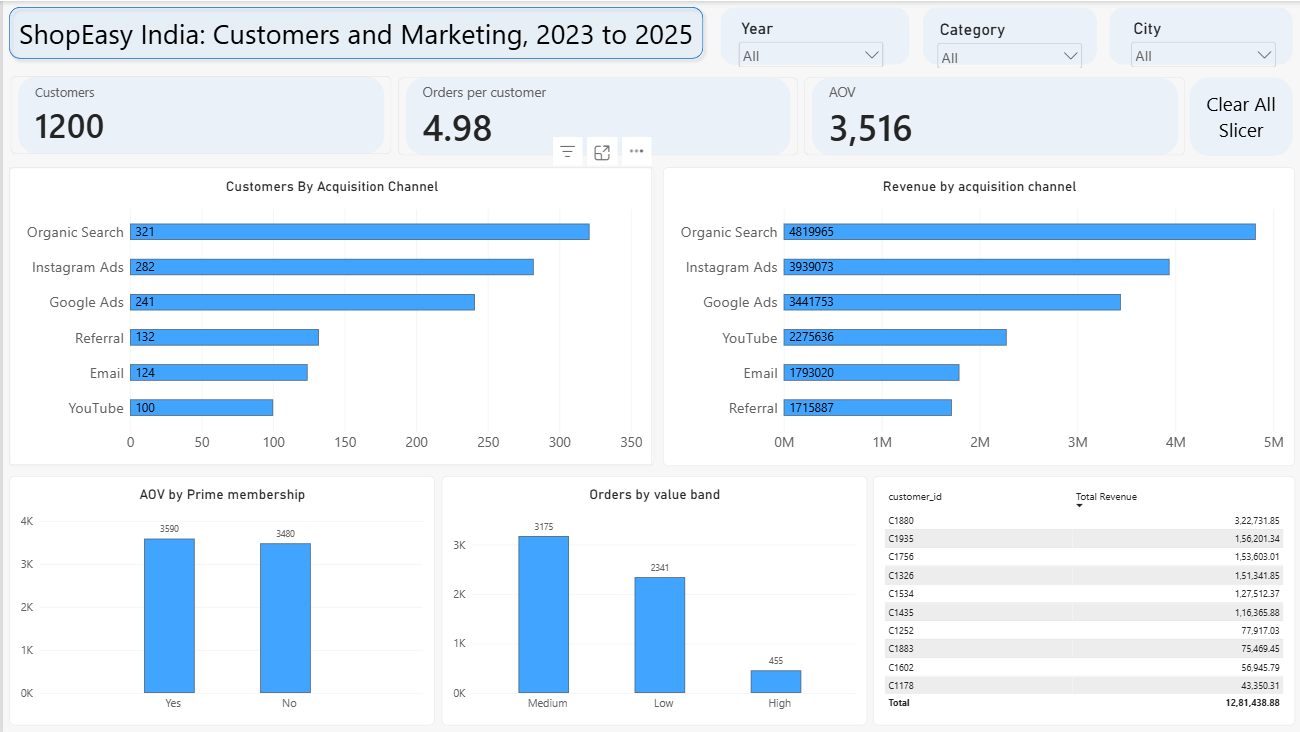

The page's visual inventory and layout, read from the dashboard file:
{"tool":"powerbi","page":{"name":"Page 2","canvas":[1920,1080],"ordinal":1},"visuals":[{"type":"shape","box":[0,0,1039.9,93.9],"z":0},{"type":"shape","box":[1056,8.3,278.4,84.8],"z":0,"group":"g1"},{"type":"group","id":"g1","title":"Group 1","box":[1056,8.3,843.1,84.8],"z":0,"group":"g2"},{"type":"slicer","fields":{"Values":["public orders.order_date.Variation.Date Hierarchy.Year"]},"box":[1078.9,24.1,222.9,70.2],"z":0,"group":"g3"},{"type":"shape","box":[21.7,110.4,539.7,115.3],"z":0,"group":"g5"},{"type":"shape","box":[591.9,112.5,567.3,115.3],"z":0,"group":"g6"},{"type":"shape","box":[1189.7,112.5,539.7,115.3],"z":0,"group":"g7"},{"type":"group","id":"g2","title":"Group 6","box":[1056,8.3,843.1,87.7],"z":1000},{"type":"shape","box":[1354.5,8.3,256.2,84.8],"z":1000,"group":"g1"},{"type":"group","id":"g3","title":"Group 2","box":[1078.9,24.1,800.3,71.8],"z":1000,"group":"g2"},{"type":"slicer","fields":{"Values":["public orders.product_category"]},"box":[1371,25.7,222.9,70.2],"z":1000,"group":"g3"},{"type":"cardVisual","fields":{"Data":["public orders.Customers"]},"box":[11,110.4,561.1,115.3],"z":1000,"group":"g5"},{"type":"cardVisual","fields":{"Data":["public orders.order per customer"]},"box":[580.7,112.5,589.7,115.3],"z":1000,"group":"g6"},{"type":"cardVisual","fields":{"Data":["public orders.AOV"]},"box":[1179,112.5,561.1,115.3],"z":1000,"group":"g7"},{"type":"shape","box":[1628.8,8.3,270.3,84.8],"z":2000,"group":"g1"},{"type":"slicer","fields":{"Values":["public customers.city"]},"box":[1656.2,24.3,222.9,70.2],"z":2000,"group":"g3"},{"type":"group","id":"g4","title":"Group 3","box":[11,110.4,1730.1,117.8],"z":2000},{"type":"group","id":"g5","title":"Group 5","box":[11,110.4,560.2,115.7],"z":2000,"group":"g4"},{"type":"group","id":"g6","title":"Group 5","box":[580.7,112.5,590.7,115.7],"z":3000,"group":"g4"},{"type":"barChart","title":"Customers By Acquisition Channel","fields":{"Category":["public customers.acquisition_channel"],"Y":["public orders.Customers"]},"box":[8.3,244.2,949.6,440.3],"z":3000},{"type":"group","id":"g7","title":"Group 5","box":[1179,112.5,560.2,115.7],"z":4000,"group":"g4"},{"type":"barChart","title":"Revenue by acquisition channel","fields":{"Category":["public customers.acquisition_channel"],"Y":["public orders.Total Revenue"]},"box":[972.5,244.2,930.8,440.3],"z":4000},{"type":"columnChart","title":"AOV by Prime membership","fields":{"Category":["public customers.is_prime_member"],"Y":["public orders.AOV"]},"box":[8.3,699.1,626.1,367.3],"z":5000},{"type":"columnChart","title":"Orders by value band","fields":{"Category":["public orders.Value Band"],"Y":["CountNonNull(public orders.order_id)"]},"box":[646,699.4,626.1,367.3],"z":6000},{"type":"tableEx","fields":{"Values":["public orders.customer_id","public orders.Total Revenue"]},"box":[1281.4,699.1,621.9,367.3],"z":7000},{"type":"shape","box":[1746.6,112.3,152.8,116],"z":8000}]}

Visuals, with their boxes in screenshot pixels (x1, y1, x2, y2), scaled from the page's 1920x1080 canvas onto the 1300x732 screenshot:
shape: crop(0, 0, 704, 64)
shape: crop(715, 6, 904, 63)
"Group 1" group: crop(715, 6, 1286, 63)
slicer - public orders.order_date.Variation.Date Hierarchy.Year: crop(731, 16, 881, 64)
shape: crop(15, 75, 380, 153)
shape: crop(401, 76, 785, 154)
shape: crop(806, 76, 1171, 154)
"Group 6" group: crop(715, 6, 1286, 65)
shape: crop(917, 6, 1091, 63)
"Group 2" group: crop(731, 16, 1272, 65)
slicer - public orders.product_category: crop(928, 17, 1079, 65)
cardVisual - public orders.Customers: crop(7, 75, 387, 153)
cardVisual - public orders.order per customer: crop(393, 76, 792, 154)
cardVisual - public orders.AOV: crop(798, 76, 1178, 154)
shape: crop(1103, 6, 1286, 63)
slicer - public customers.city: crop(1121, 16, 1272, 64)
"Group 3" group: crop(7, 75, 1179, 155)
"Group 5" group: crop(7, 75, 387, 153)
"Group 5" group: crop(393, 76, 793, 155)
"Customers By Acquisition Channel" barChart: crop(6, 166, 649, 464)
"Group 5" group: crop(798, 76, 1178, 155)
"Revenue by acquisition channel" barChart: crop(658, 166, 1289, 464)
"AOV by Prime membership" columnChart: crop(6, 474, 430, 723)
"Orders by value band" columnChart: crop(437, 474, 861, 723)
tableEx - public orders.customer_id x public orders.Total Revenue: crop(868, 474, 1289, 723)
shape: crop(1183, 76, 1286, 155)
